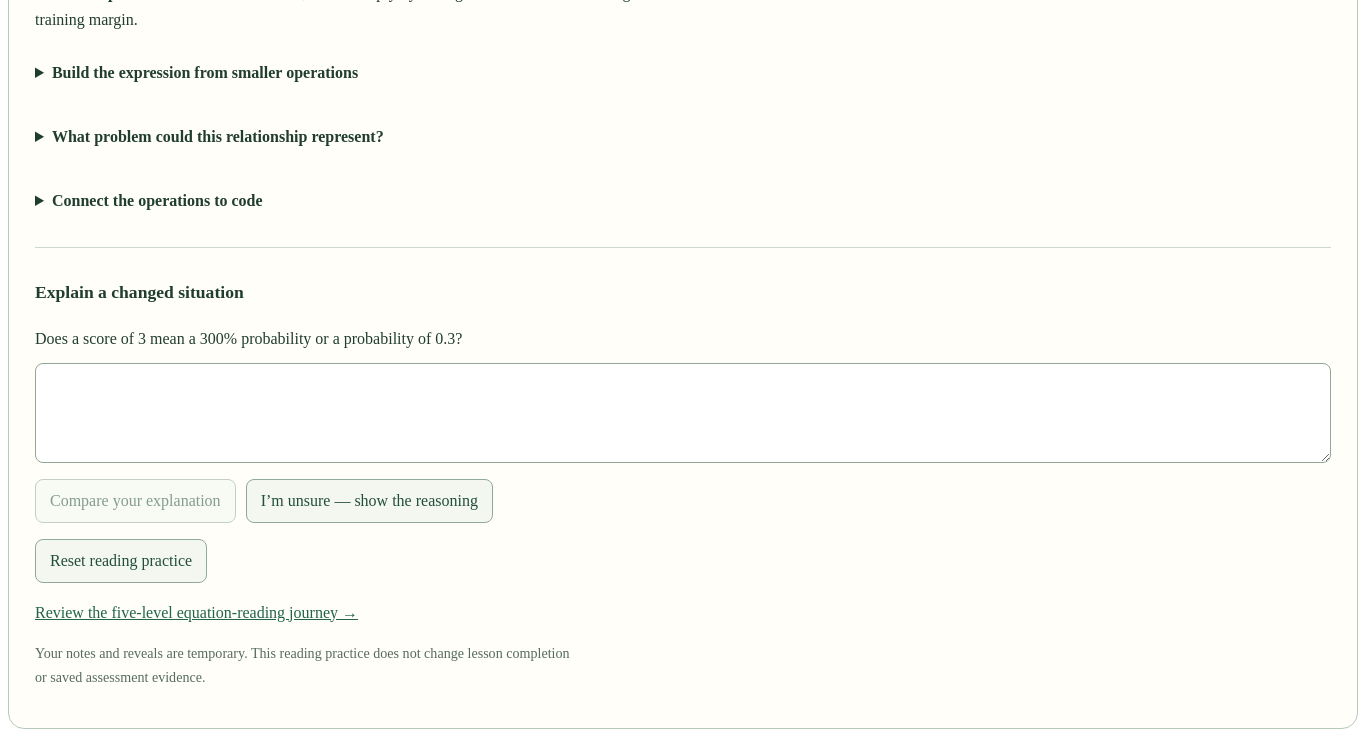
it: Equation literacy without new evidence or grading › registers all 25 current modules and keeps reverse interpretation contextual
(page scrolled)
Click the button "I’m unsure — show the reasoning".
click(369, 500)  # box [246,478,493,522]
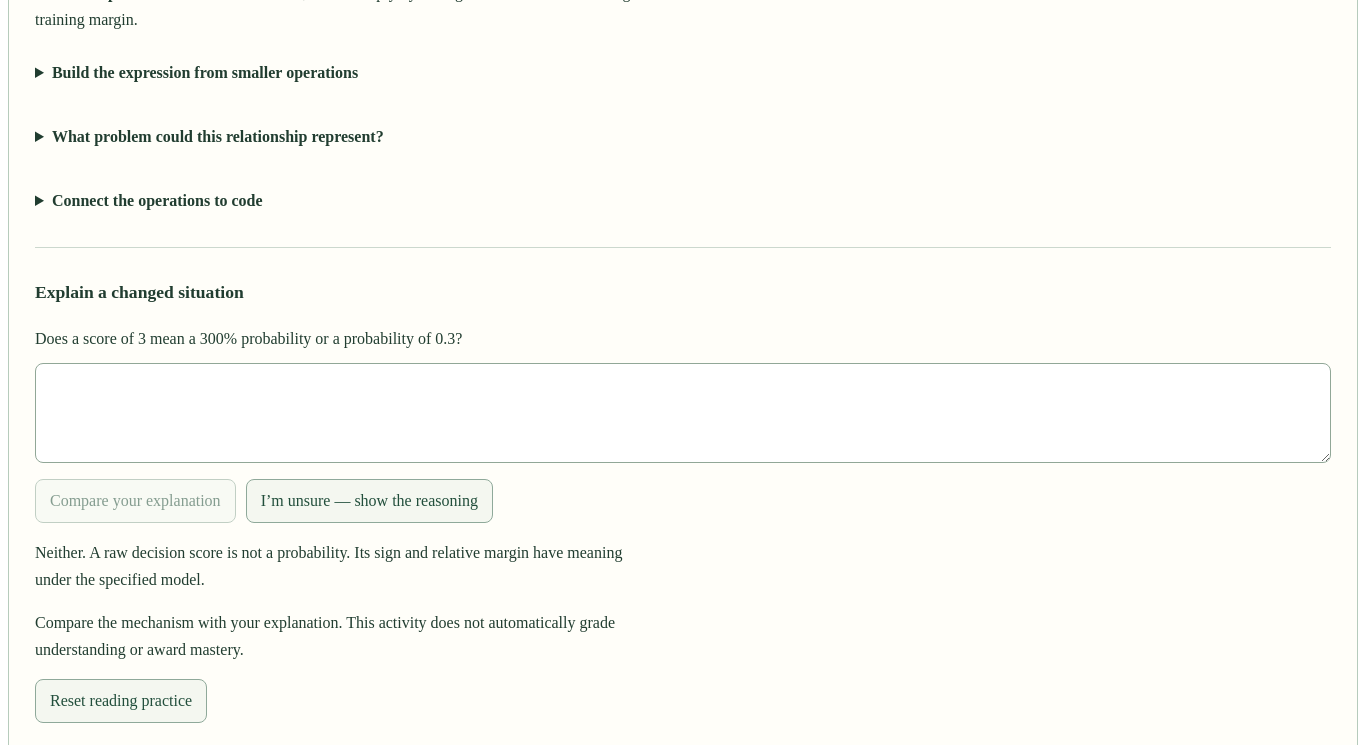
Check: the text "not a probability" is shown, box [35,544,622,588]
